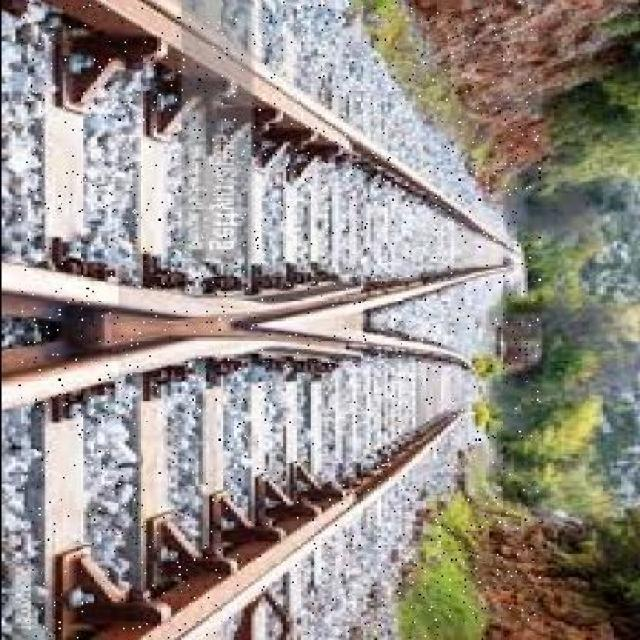rail: (18, 3, 539, 640)
